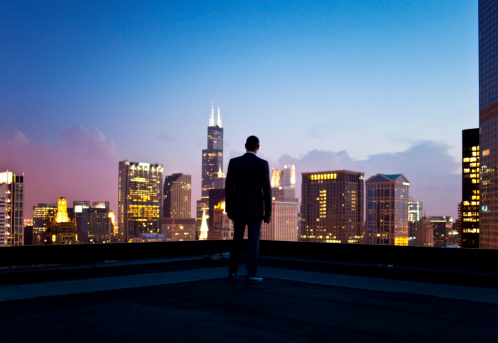em pe: (220, 129, 264, 275)
